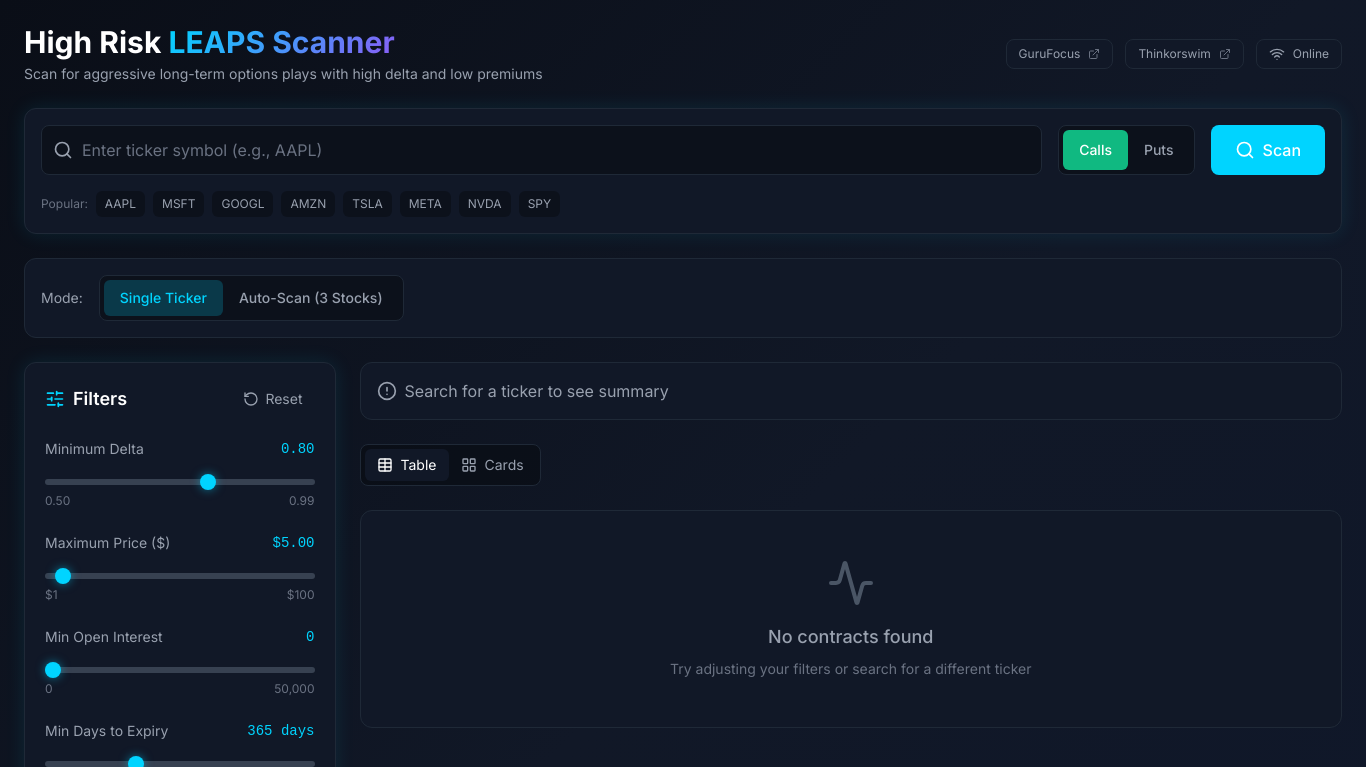
Test: OptionScanner Integration › Error Handling › should display message when no options found
The image size is (1366, 767).
Type "RARE" into the field with placeholder "Enter ticker symbol (e.g., AAPL)" at point(542, 150), box [41,125,1042,175]
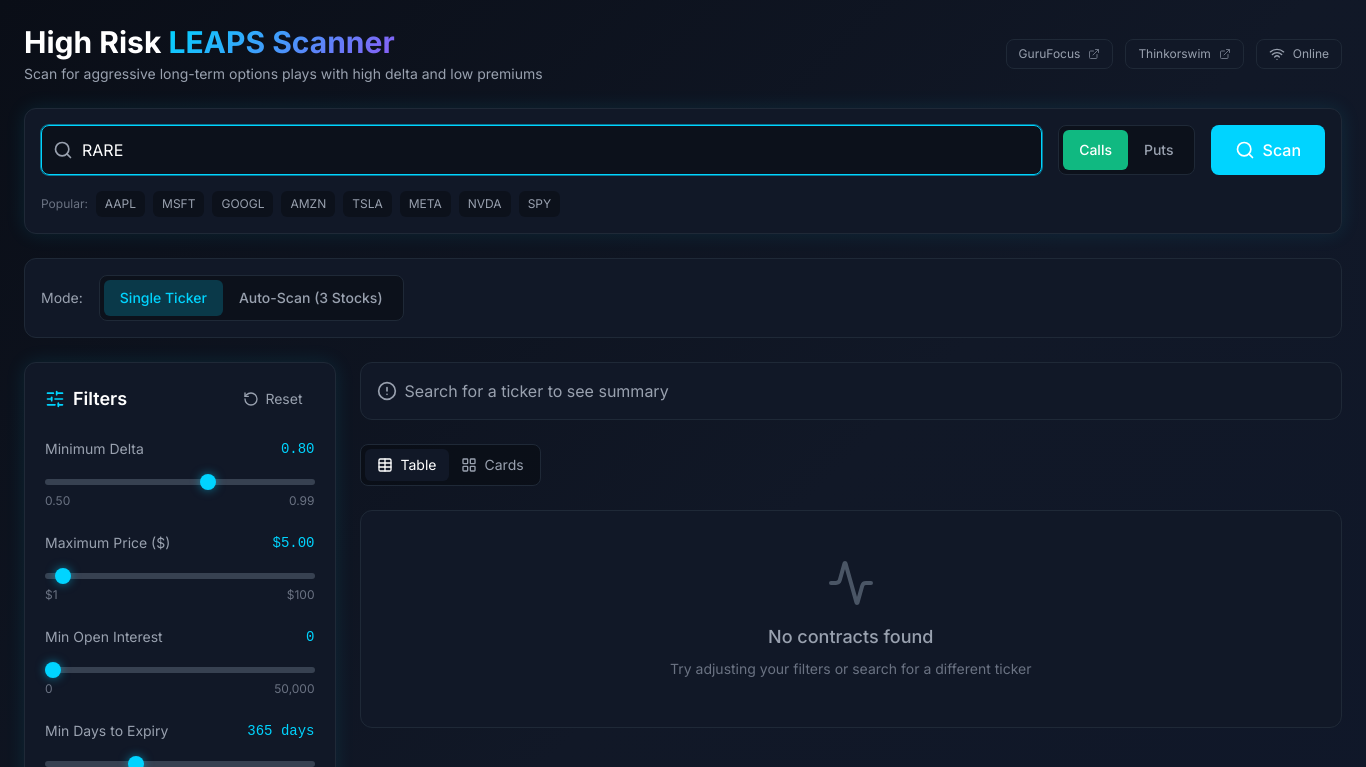
Click the button "Scan" at point(1268, 150), box [1211,125,1325,175]
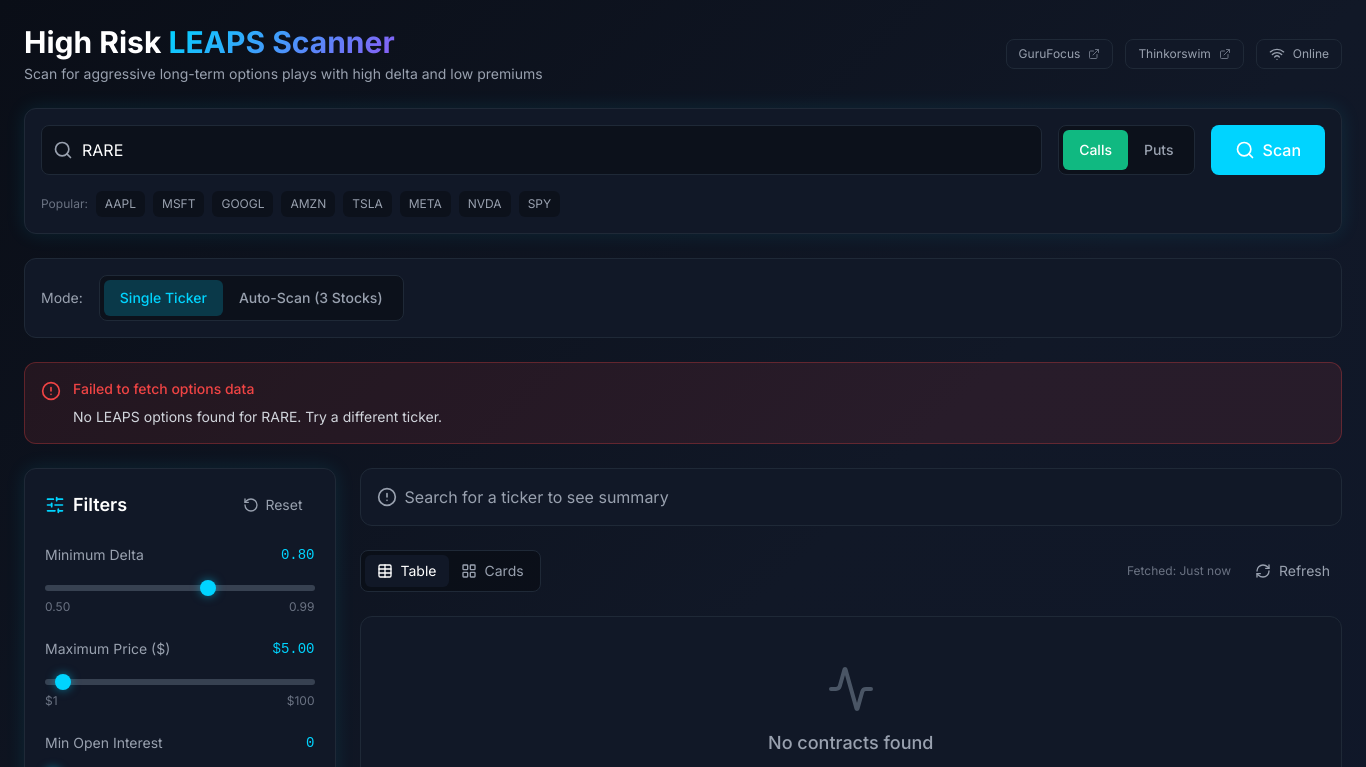
Expected: the text "No LEAPS options found for RARE. Try a different ticker." is shown, [73,408,442,425]
